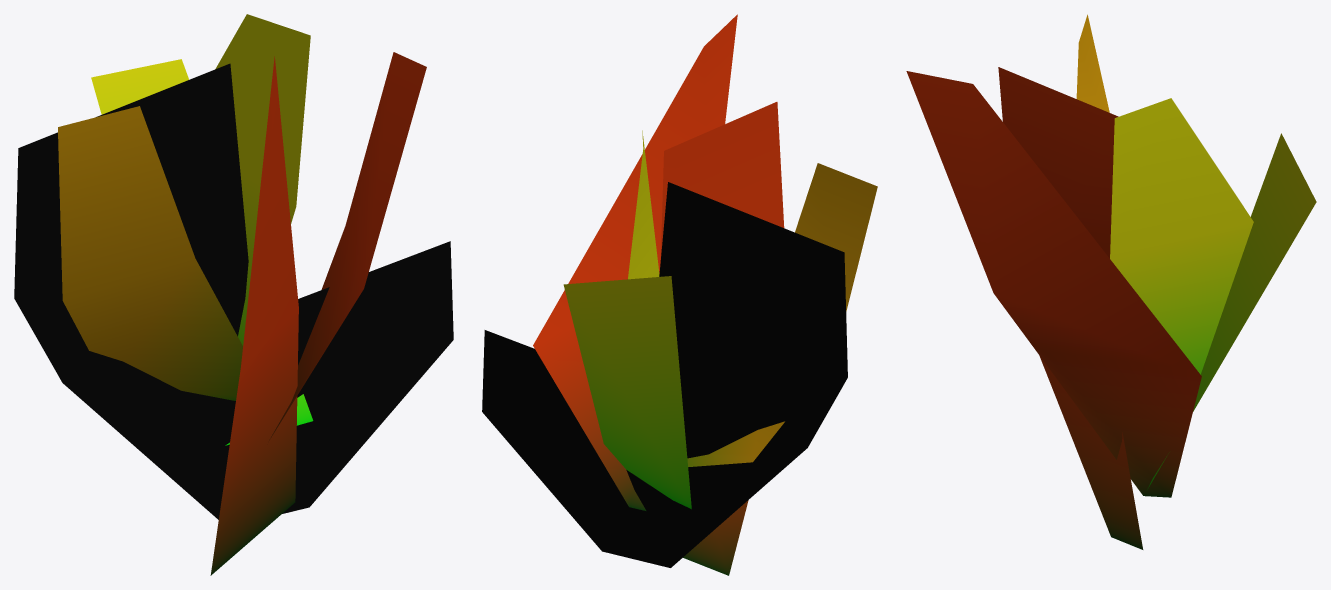
Rendered from Seaweed_LOD2_Var6_sdpjN.fbx.
3 renders of one model, left to right at view 1: azimuth 30°, elevation 25°; view 2: azimuth 150°, elevation 25°; view 3: azimuth 270°, elevation 25°, orthographic. The views are drawn at different scales.
Parts seen in each view (by area): view 1: _28f6_Var6_LOD2; view 2: _28f6_Var6_LOD2; view 3: _28f6_Var6_LOD2.
Boxes of the visible parts, bbox=[...] form: _28f6_Var6_LOD2: bbox=[14, 14, 453, 575]; _28f6_Var6_LOD2: bbox=[482, 14, 877, 575]; _28f6_Var6_LOD2: bbox=[906, 14, 1316, 549].
Size of the model in its own units: 12.09 by 14.91 by 10.84.
